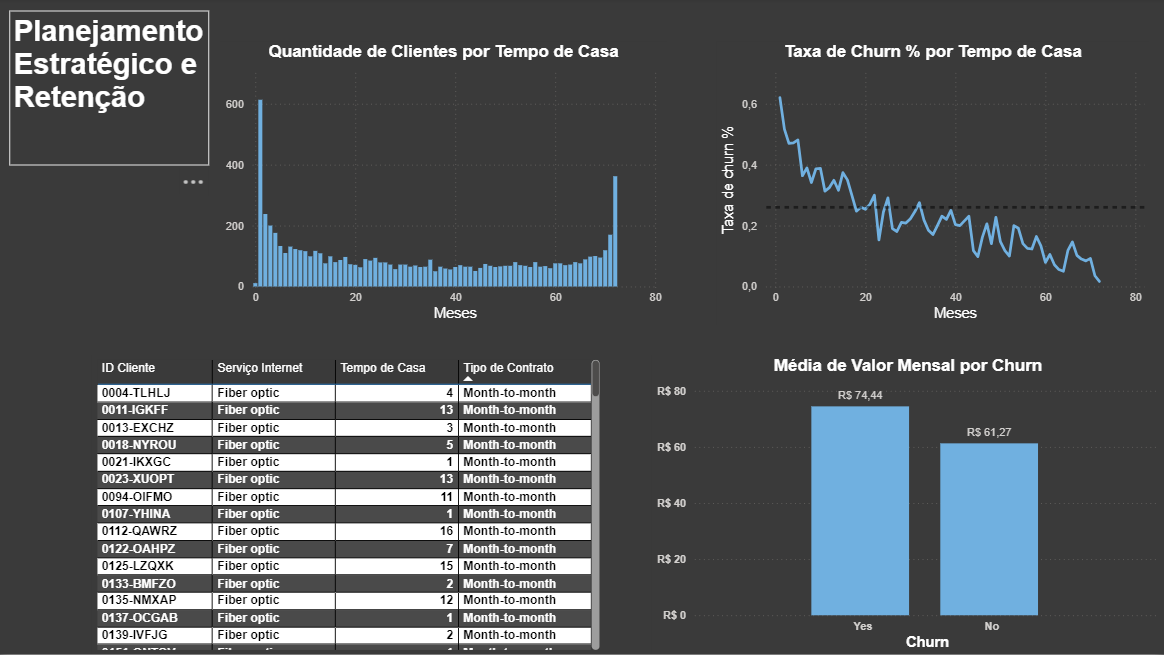

The dashboard page shown, as its layout file describes it:
{"tool":"powerbi","page":{"name":"Página 3","canvas":[1280,720],"ordinal":2},"visuals":[{"type":"clusteredColumnChart","title":"Quantidade de Clientes por Tempo de Casa","fields":{"Category":["public tabela.tempo_casa"],"Y":["CountNonNull(public tabela.idcliente)"]},"box":[244.3,48,489.9,311.5],"z":0},{"type":"lineChart","title":"Taxa de Churn % por Tempo de Casa","fields":{"Category":["public tabela.tempo_casa"],"Y":["Medidas.Taxa de churn %"]},"box":[789,48,474.8,311.5],"z":1000},{"type":"tableEx","fields":{"Values":["public tabela.idcliente","public tabela.servico_internet","public tabela.tempo_casa","public tabela.tipo_contrato"]},"box":[102.9,392.5,562.6,328],"z":2000},{"type":"columnChart","title":"Média de Valor Mensal por Churn","fields":{"Category":["public tabela.churn"],"Y":["Avg(public tabela.valor_mensal)"]},"box":[717.7,392.5,562.6,328],"z":3000},{"type":"textbox","box":[12.3,13.7,219.6,170.2],"z":4000}]}

Visuals, with their boxes in screenshot pixels (x1, y1, x2, y2), scaled from the page's 1280x720 canvas onto the 1164x655 screenshot:
"Quantidade de Clientes por Tempo de Casa" clusteredColumnChart: 222,44,668,327
"Taxa de Churn % por Tempo de Casa" lineChart: 717,44,1149,327
tableEx - public tabela.idcliente x public tabela.servico_internet: 94,357,605,654
"Média de Valor Mensal por Churn" columnChart: 653,357,1163,654
textbox: 11,12,211,167
